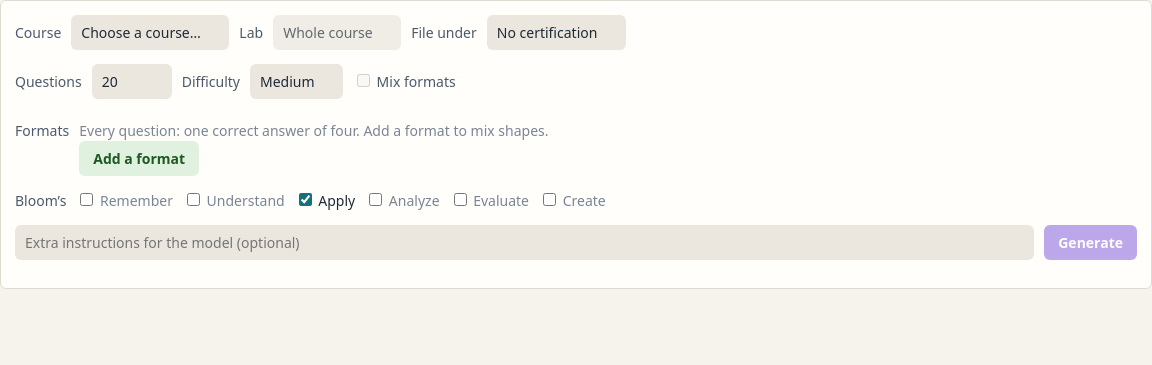
Test case: the form › shows the server's refusal rather than starting
Select "Demo Course" in the dropdown labelled "Course" at (150, 32), box [71, 15, 229, 50]
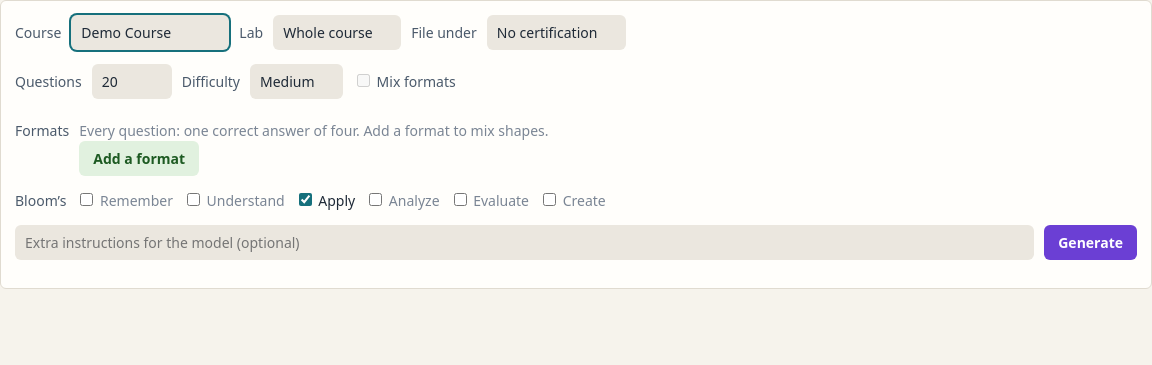
Click the button "Generate" at (1091, 242), box [1044, 225, 1137, 260]
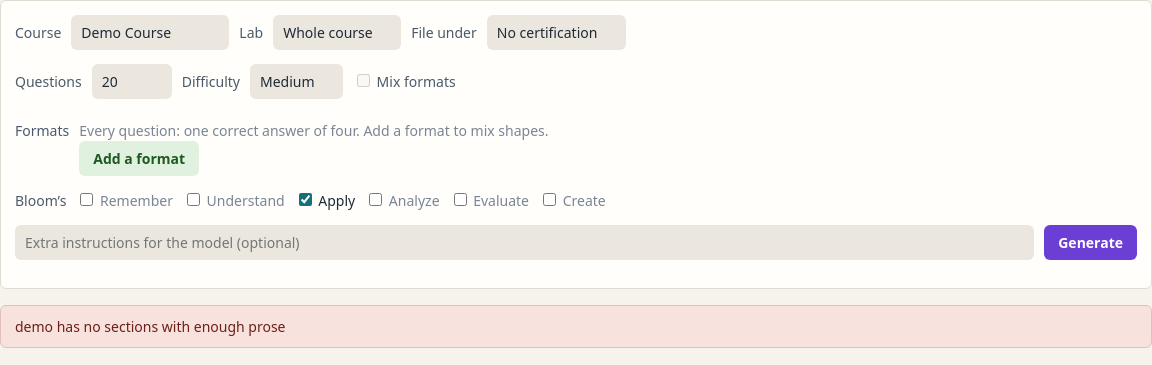
Check: the text "demo has no sections with enough prose" is shown, box [0, 305, 1151, 348]
